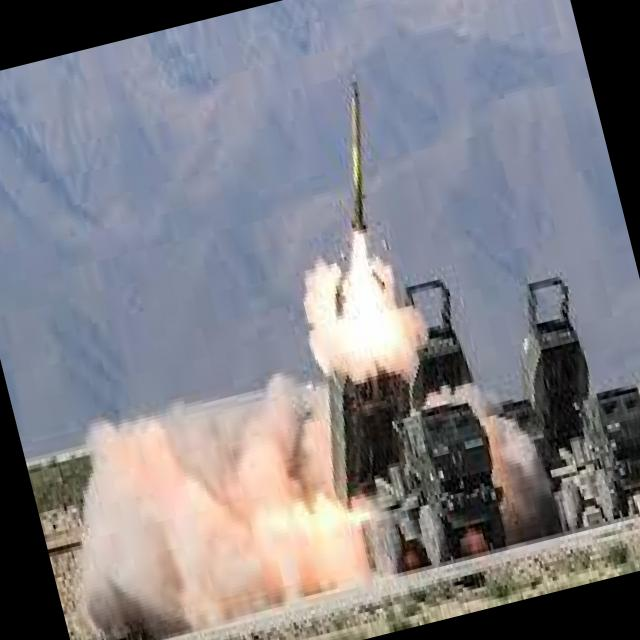rocket: (295, 69, 417, 326)
